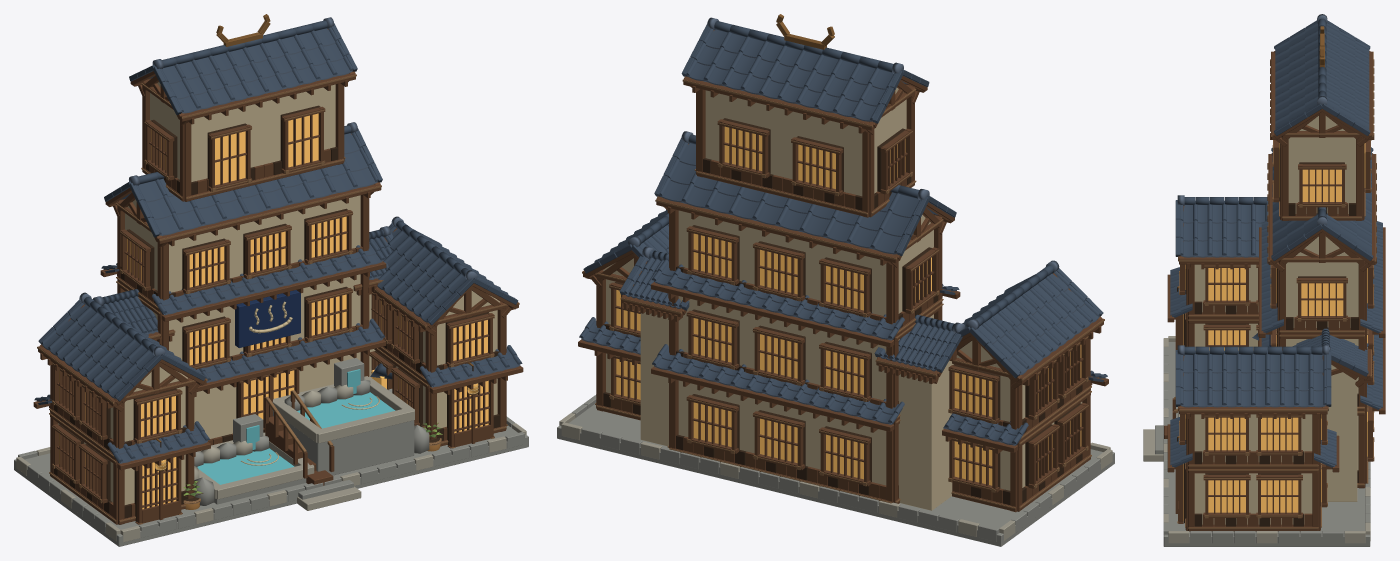
The picture shows the model from 3 angles, left to right: view 1: azimuth 30°, elevation 25°; view 2: azimuth 150°, elevation 25°; view 3: azimuth 270°, elevation 25°; orthographic projection. The views are drawn at different scales.
Visible parts, largest first — view 1: compact_onsen_3_geometry, compact_onsen_3_geometry ceramic; view 2: compact_onsen_3_geometry, compact_onsen_3_geometry ceramic; view 3: compact_onsen_3_geometry, compact_onsen_3_geometry ceramic.
Part boxes in pixels (box(x1,y1,x2,y2)): compact_onsen_3_geometry: box(14, 14, 528, 546); compact_onsen_3_geometry ceramic: box(34, 17, 522, 463); compact_onsen_3_geometry: box(557, 14, 1114, 546); compact_onsen_3_geometry ceramic: box(579, 17, 1107, 445); compact_onsen_3_geometry: box(1143, 26, 1385, 546); compact_onsen_3_geometry ceramic: box(1170, 14, 1382, 467).
Bounding box in the file's own units: 1.96 × 1.91 × 1.02.
